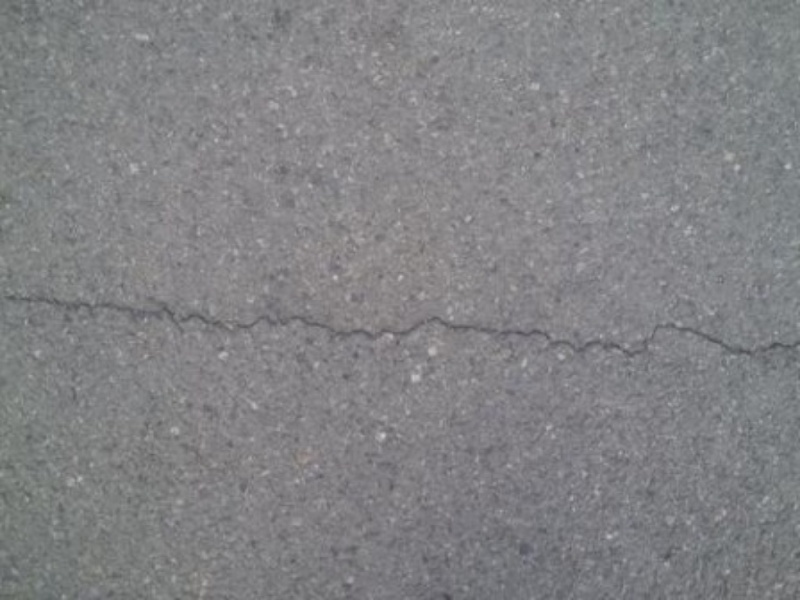crack: (1, 271, 789, 396)
